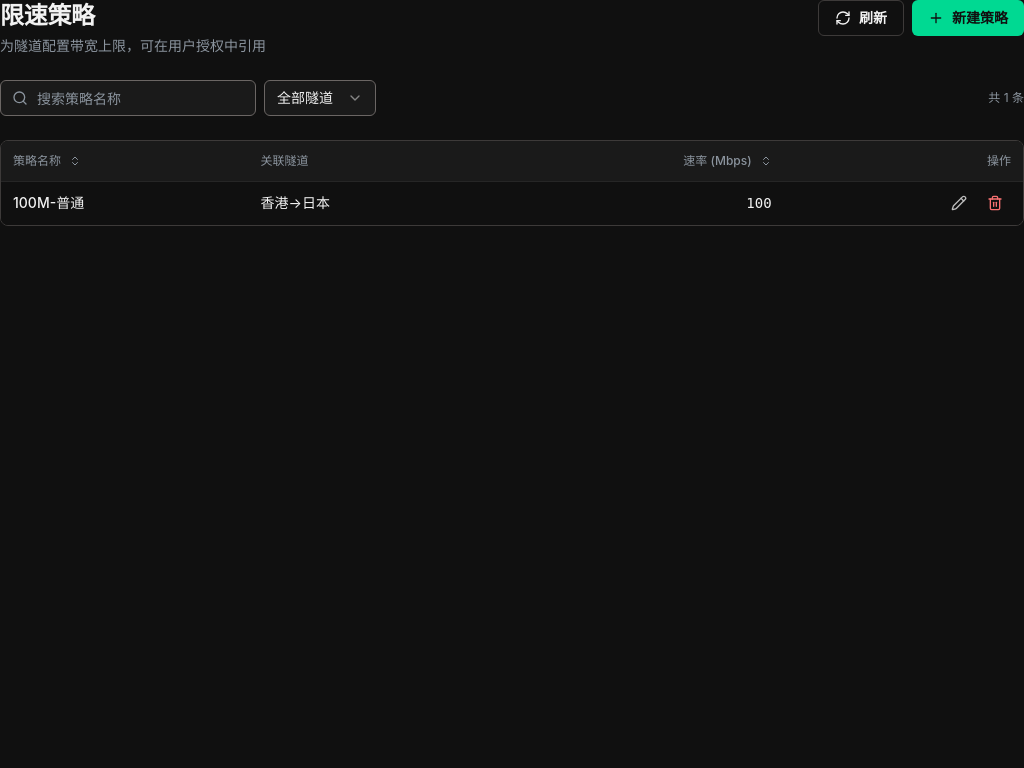
Test: 限速策略页面 › 原始大整数字符串超出浏览器精度时不静默舍入提交
The width and height of the screenshot is (1024, 768).
Click the button named "编辑限速策略" at (959, 203), box [943, 187, 975, 219]
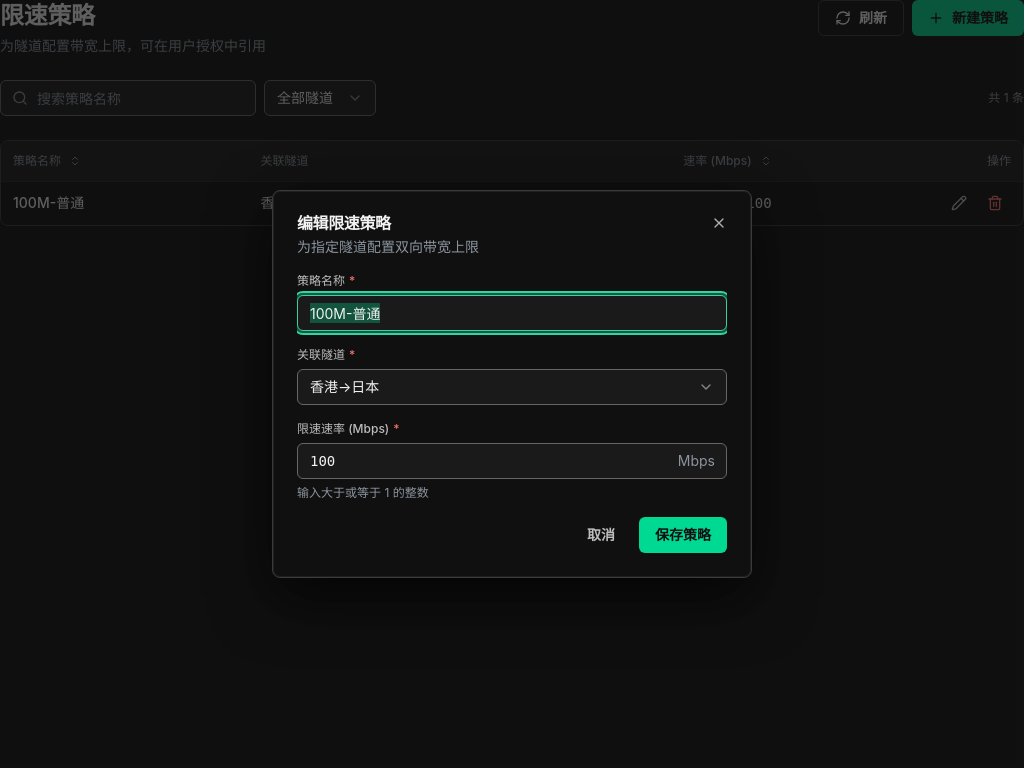
Replace the text in the number field labelled "限速速率 (Mbps)" with "9007199254740993" at (512, 461), box [297, 443, 727, 479]
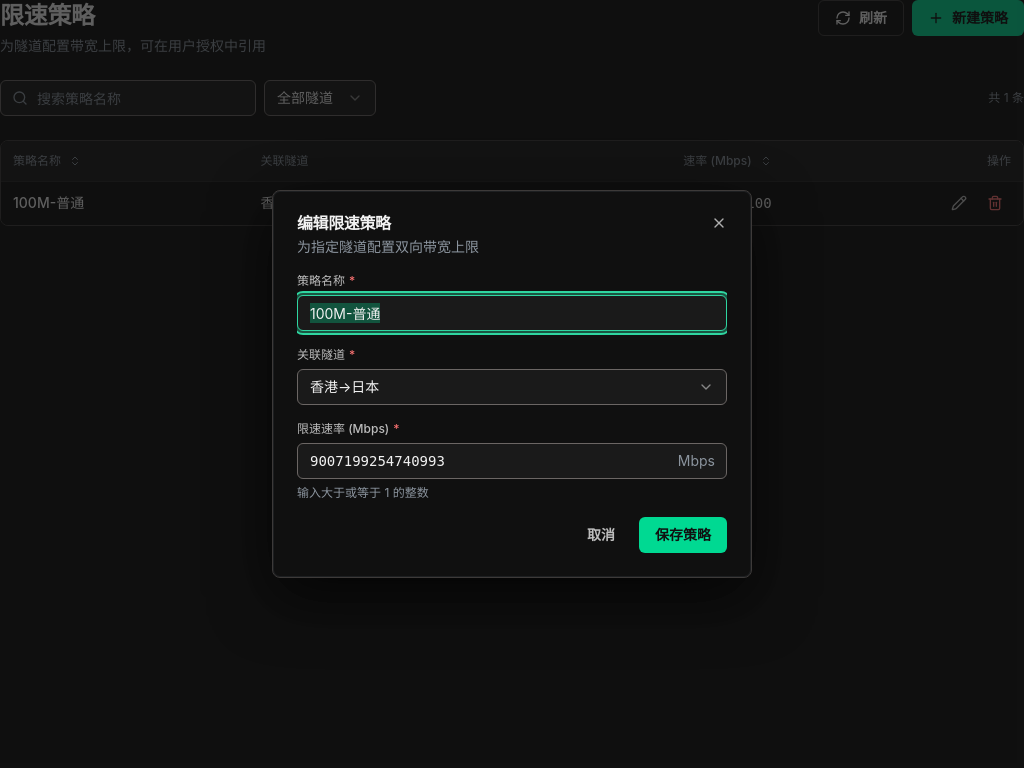
Click the button "保存策略" at (683, 535), box [639, 517, 727, 553]
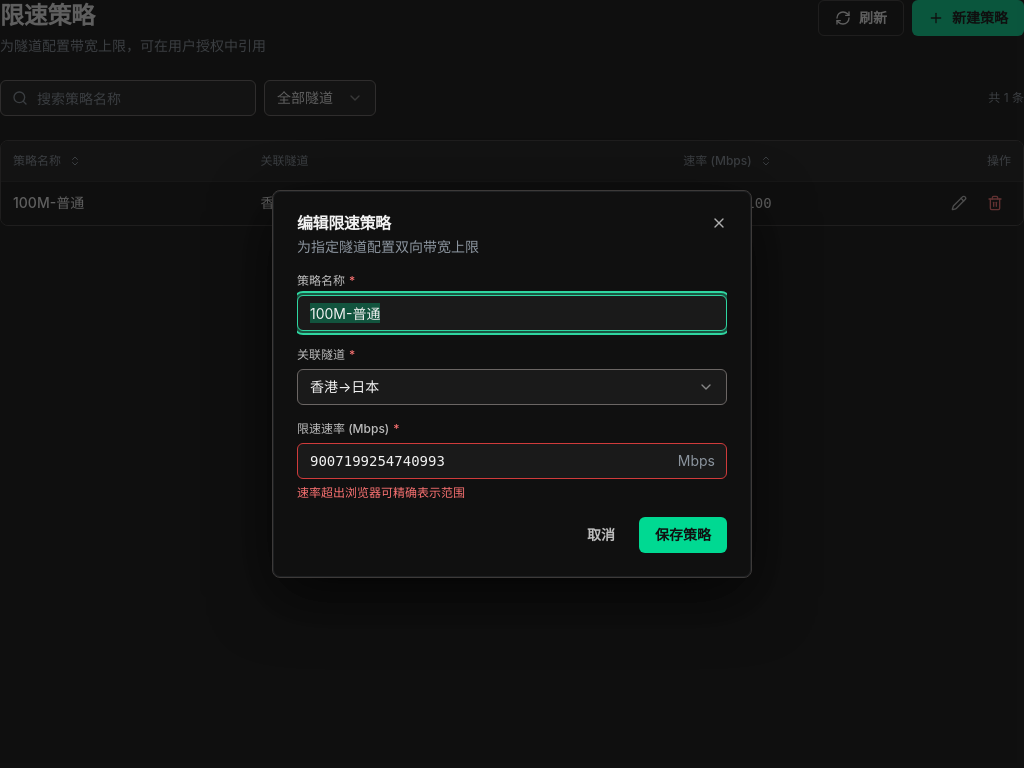
Check: the text "速率超出浏览器可精确表示范围" is shown, box [297, 485, 465, 500]
